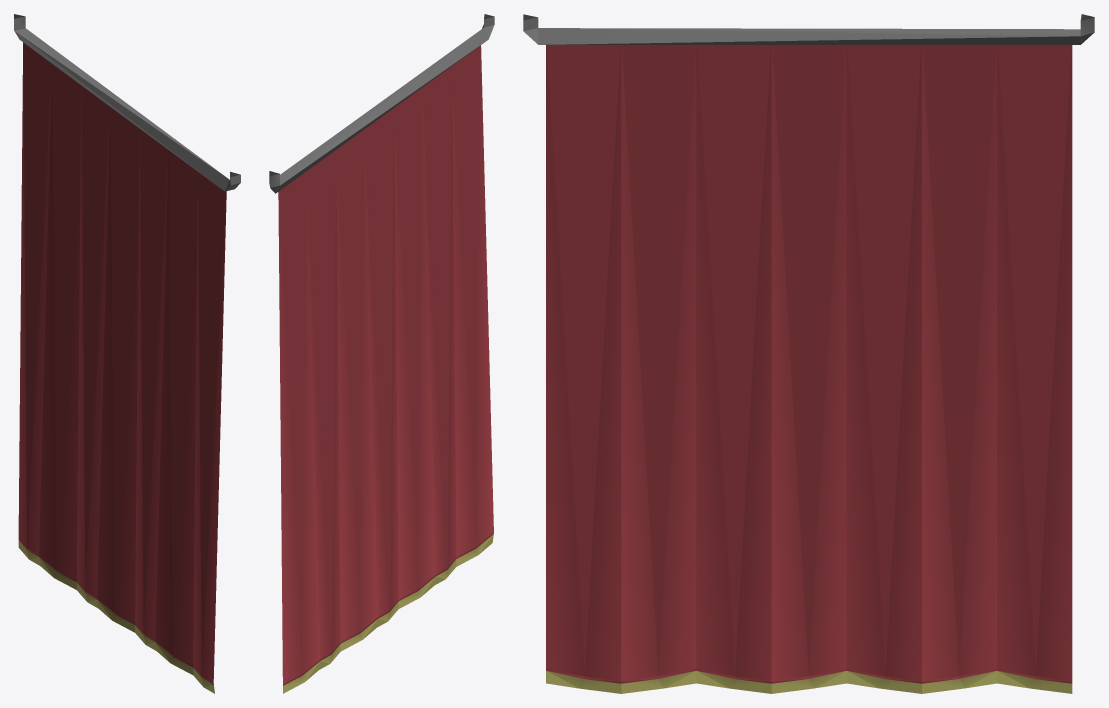
The model's file is theatre.gltf.
3 views of the same model, side by side, from view 1: azimuth 30°, elevation 25°; view 2: azimuth 150°, elevation 25°; view 3: azimuth 270°, elevation 25° (orthographic). The views are drawn at different scales.
Visible parts, largest first — view 1: Curtains; view 2: Curtains; view 3: Curtains.
Part boxes in pixels (x1,y1,x2,y2): Curtains: (14,14,240,693); Curtains: (269,14,494,693); Curtains: (523,14,1094,693).
Bounding box in the file's own units: 0.1153 × 3.04 × 2.32.
